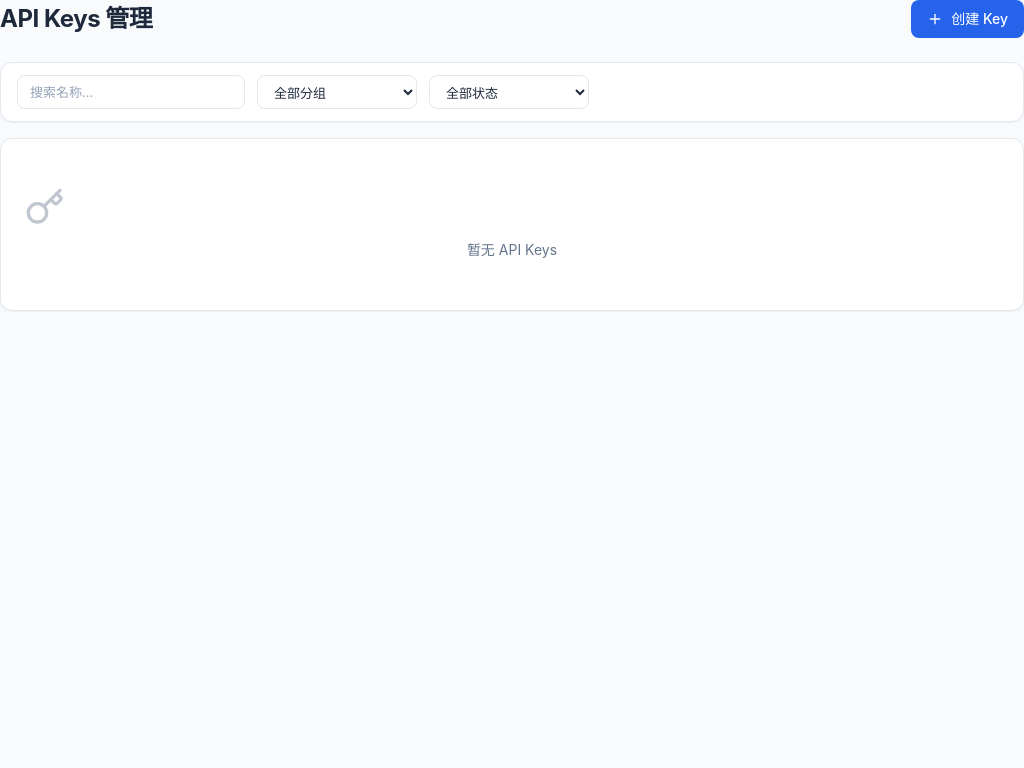
Test: KeysView › shows a no-visible-groups hint while still allowing an unbound key create flow
Click the button "创建 Key" at (968, 19), box [911,0,1023,38]
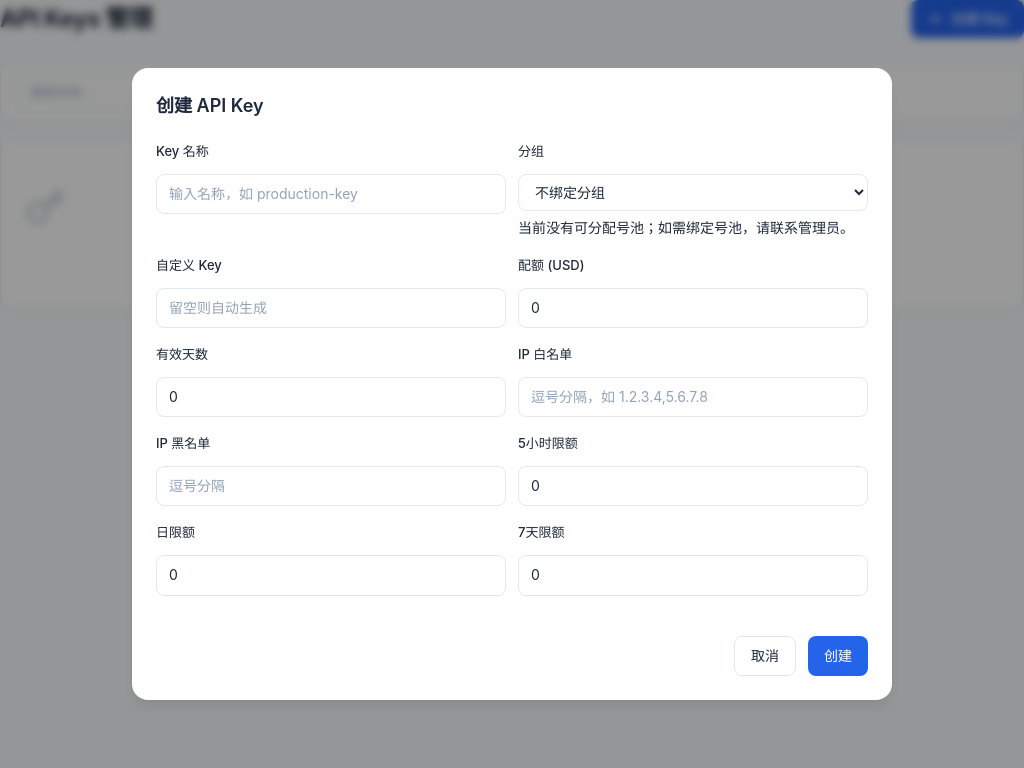
Expected: the text "当前没有可分配号池；如需绑定号池，请联系管理员。" is shown, [518,216,868,239]
Expected: the button with test id "submit-create-key" is enabled, [808,636,868,676]
